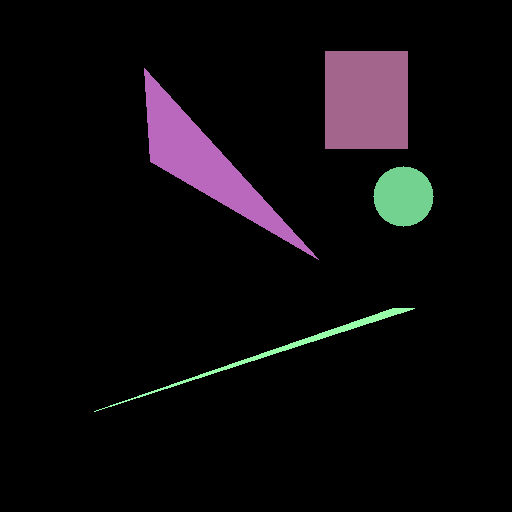circle: (373, 166, 433, 226)
rectangle: (325, 51, 407, 148)
triangle: (144, 68, 318, 259)
